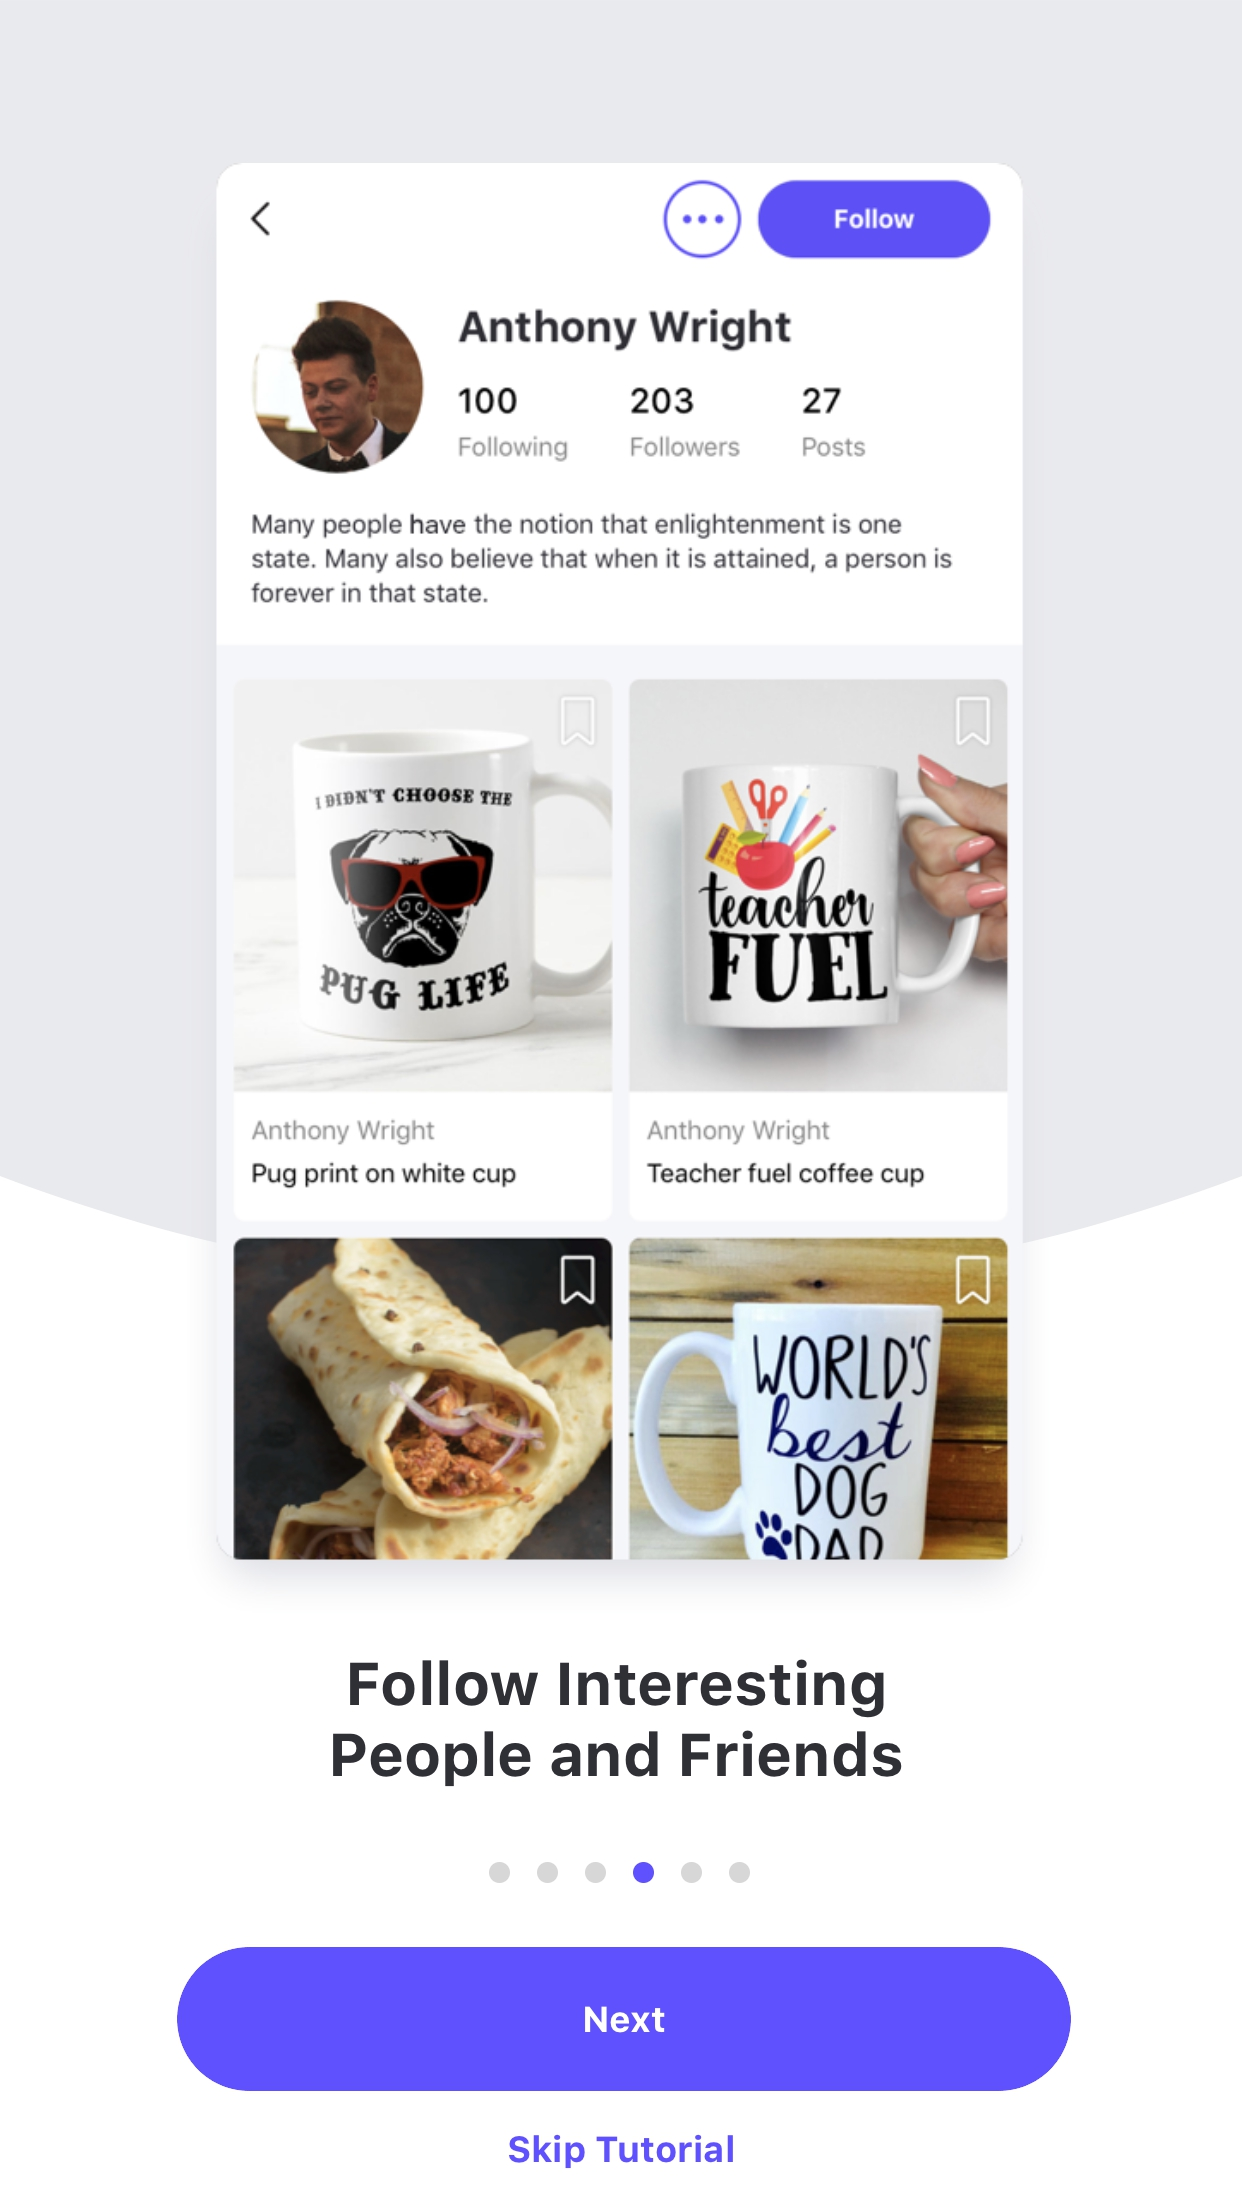Image: (215, 162, 1024, 1560)
PageIndicator: (488, 1862, 751, 1883)
Text: (334, 1658, 901, 1786), (510, 2134, 732, 2169)
TextButton: (177, 1946, 1071, 2091)
